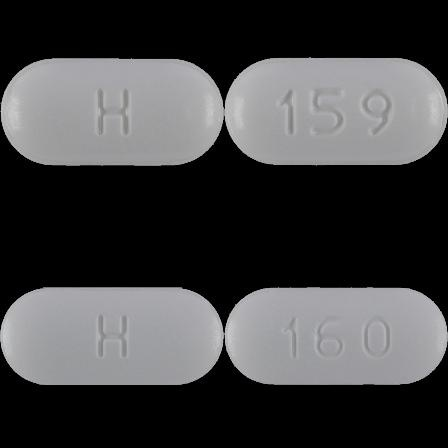50268-441: (0, 0, 224, 224)
